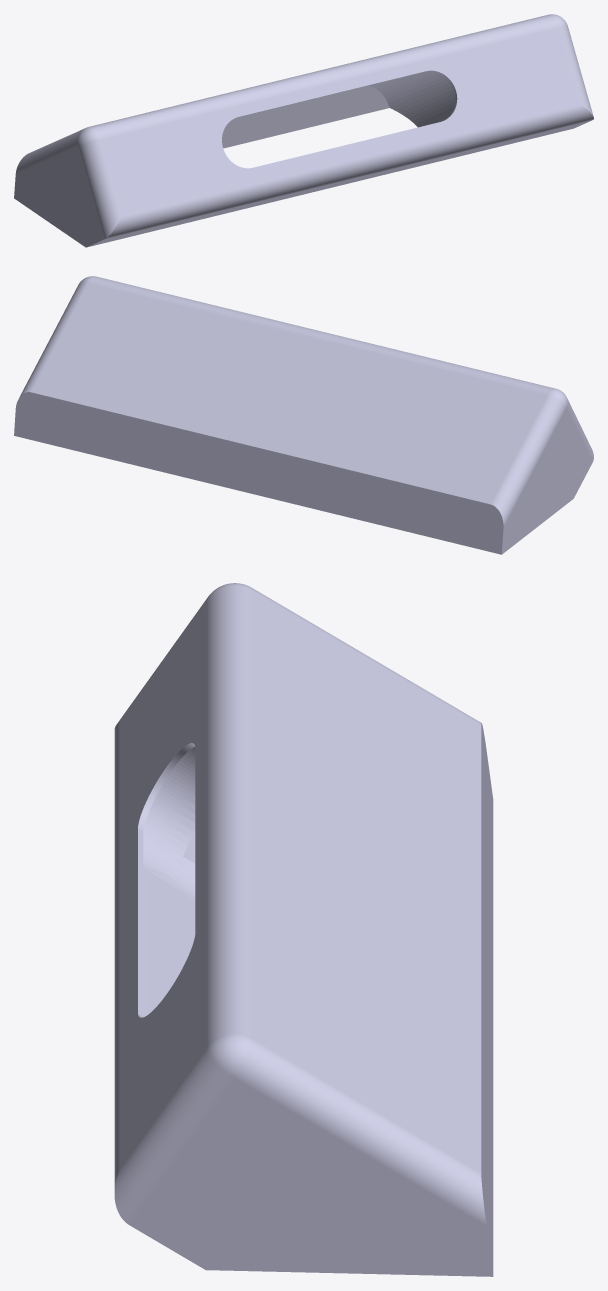
File: camerasupport.dae
The picture shows the model from 3 angles, top to bottom: view 1: azimuth 30°, elevation 25°; view 2: azimuth 150°, elevation 25°; view 3: azimuth 270°, elevation 25°; orthographic projection. The views are drawn at different scales.
Visible parts, largest first — view 1: node0; view 2: node0; view 3: node0.
Part boxes in pixels (x1,y1,x2,y2): node0: [14, 14, 593, 247]; node0: [14, 276, 593, 554]; node0: [114, 583, 493, 1276].
Size of the model in its own units: 0.17 by 0.0572 by 0.0381.
